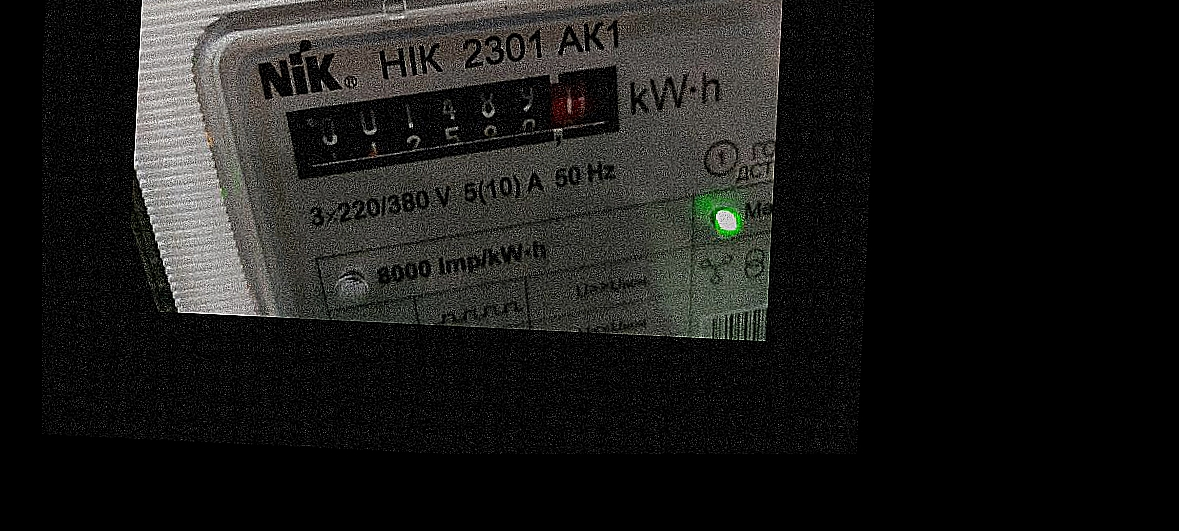0: (354, 100, 382, 138), (315, 113, 341, 149)
1: (558, 78, 579, 117), (398, 99, 420, 131)
4: (437, 90, 460, 123)
8: (477, 84, 500, 121)
9: (516, 80, 538, 113)
screen: (270, 39, 652, 208)
